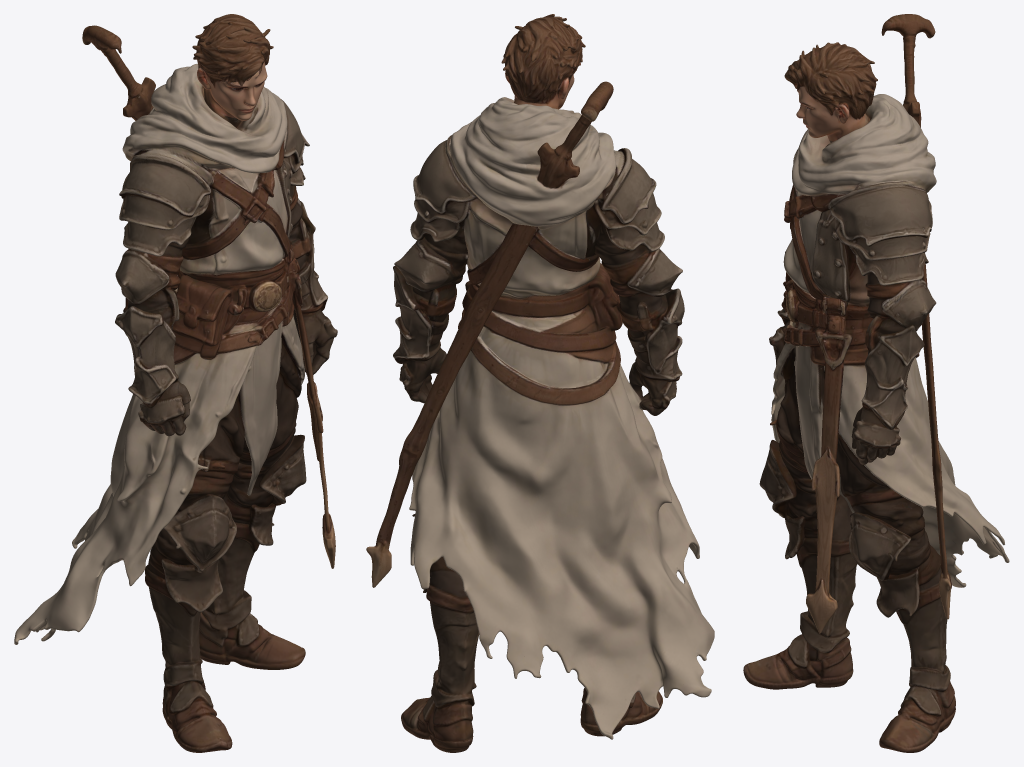
The model's file is fantasy-b.glb.
3 renders of one model, left to right at view 1: azimuth 30°, elevation 25°; view 2: azimuth 150°, elevation 25°; view 3: azimuth 270°, elevation 25°, orthographic. The views are drawn at different scales.
Visible parts, largest first — view 1: tripo_node_c6d69a22-1d53-4851-8a1b-61a99308cbb0; view 2: tripo_node_c6d69a22-1d53-4851-8a1b-61a99308cbb0; view 3: tripo_node_c6d69a22-1d53-4851-8a1b-61a99308cbb0.
Part boxes in pixels (x1,y1,x2,y2): tripo_node_c6d69a22-1d53-4851-8a1b-61a99308cbb0: [14, 14, 337, 752]; tripo_node_c6d69a22-1d53-4851-8a1b-61a99308cbb0: [366, 14, 714, 752]; tripo_node_c6d69a22-1d53-4851-8a1b-61a99308cbb0: [743, 14, 1009, 752].
Size of the model in its own units: 0.4726 by 1 by 0.3632.
1 material, 1 textured.
